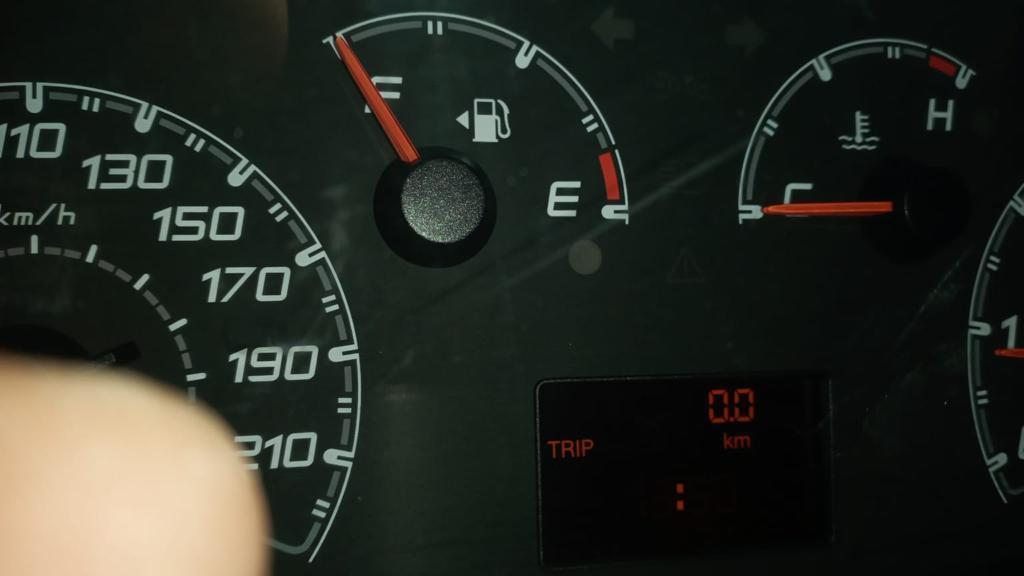,: (728, 415, 733, 424)
0: (734, 386, 756, 422), (707, 388, 728, 423)
X: (672, 478, 687, 514), (546, 438, 560, 460), (561, 438, 574, 459), (734, 434, 751, 450), (721, 430, 733, 451), (582, 438, 595, 457), (575, 438, 580, 458)
odometer: (532, 366, 844, 572)
